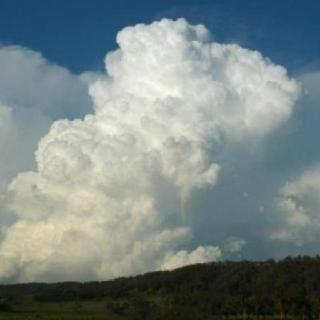Cumulonimbus: (0, 13, 320, 286)
